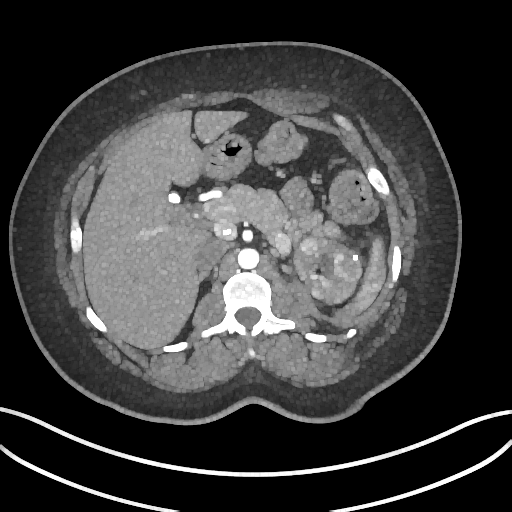Lesion: (299, 237, 318, 259)
